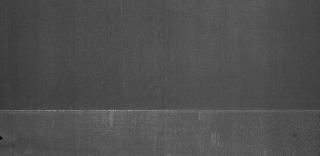welding line: (1, 103, 320, 119)
